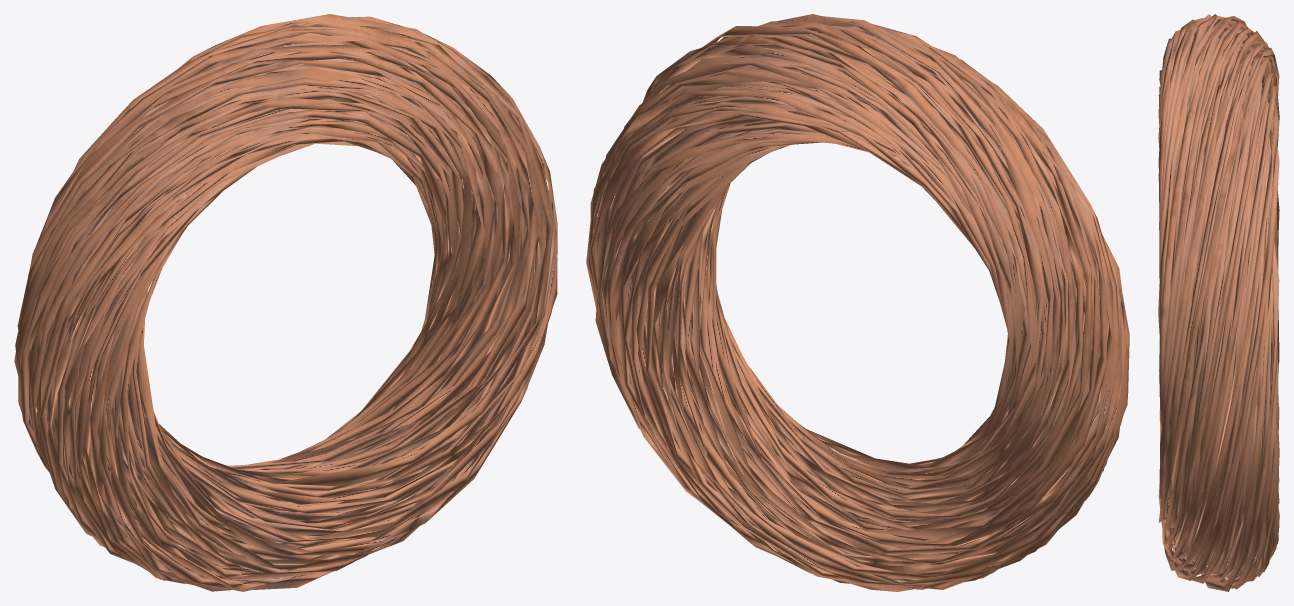
Rendered from copper_wire_coil.glb.
3 renders of one model, left to right at view 1: azimuth 30°, elevation 25°; view 2: azimuth 150°, elevation 25°; view 3: azimuth 270°, elevation 25°, orthographic. The views are drawn at different scales.
Parts seen in each view (by area): view 1: CopperWireCoil; view 2: CopperWireCoil; view 3: CopperWireCoil.
Part boxes in pixels (<box>): CopperWireCoil: <box>14,14,557,591</box>; CopperWireCoil: <box>586,14,1129,591</box>; CopperWireCoil: <box>1158,14,1279,591</box>.
Size of the model in its own units: 0.1679 by 0.1693 by 0.0354.
Materials: 1 (1 with a texture image).
